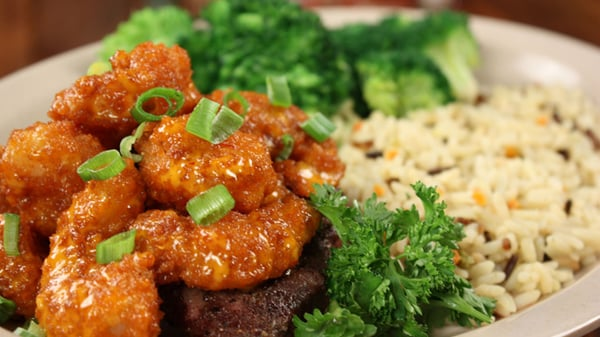curry: (61, 2, 486, 129), (297, 179, 497, 333)
